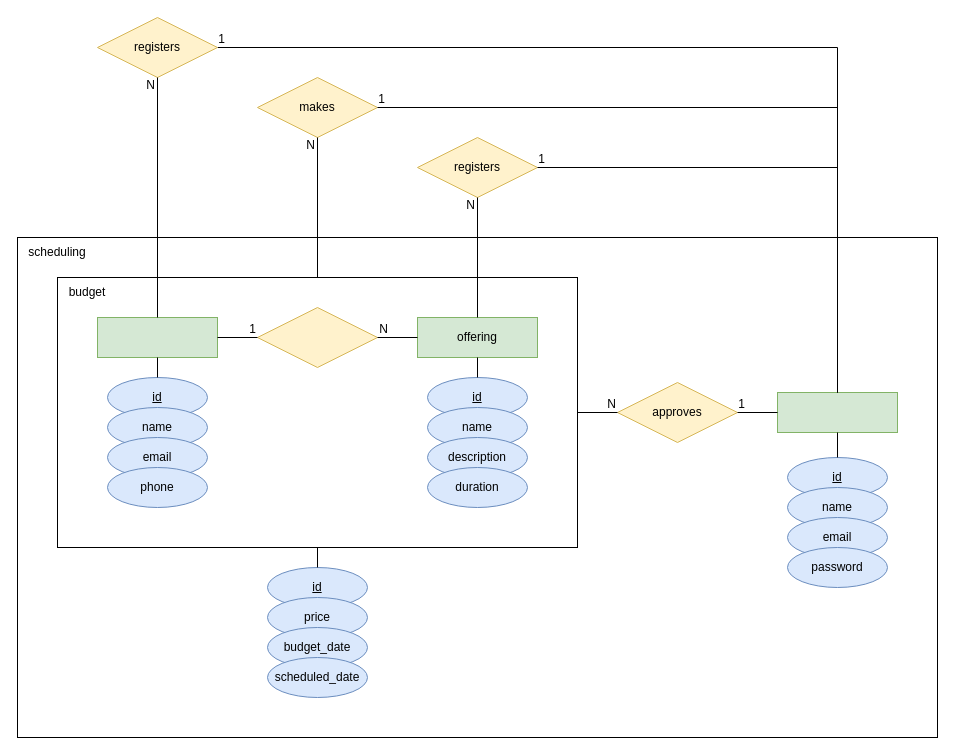
The diagram is 955 pixels wide and 755 high, and some of its shapes have lost their labels. The shapes that lost their labels are listed below. From the top down, each one's box as (x1, y1, x2, y2) in pixels, then its label:
(96, 316, 218, 358): client
(256, 306, 378, 368): contracts
(776, 392, 898, 432): user
